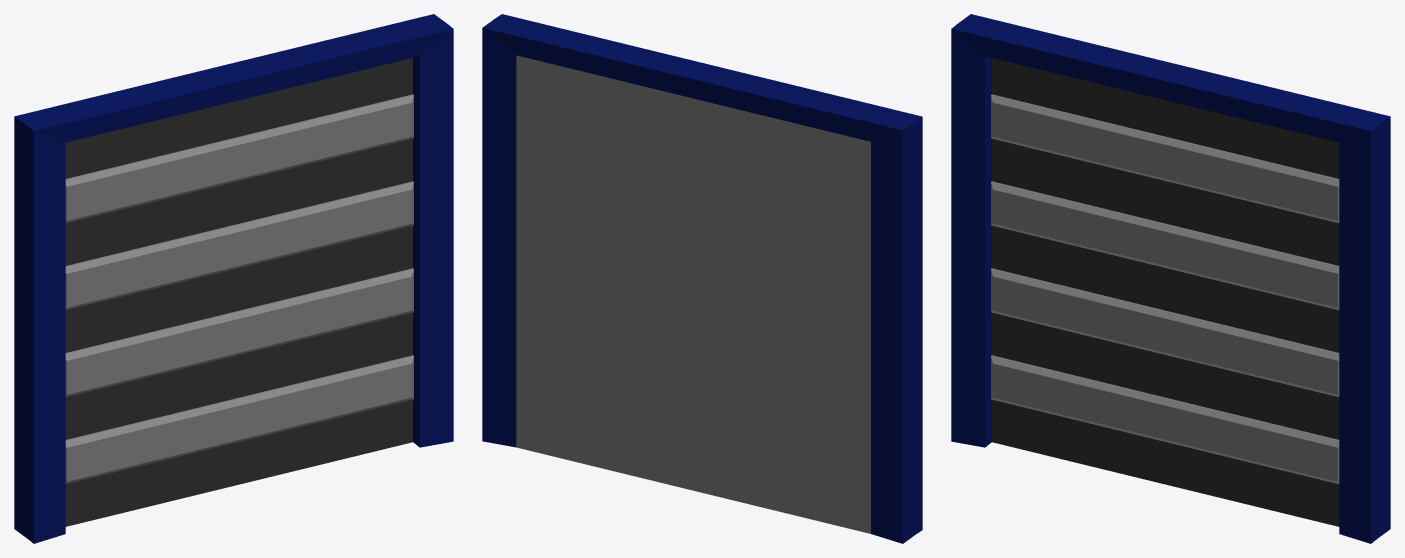
File: WarehouseShutter.fbx
3 renders of one model, left to right at view 1: azimuth 30°, elevation 25°; view 2: azimuth 150°, elevation 25°; view 3: azimuth 330°, elevation 25°, orthographic.
Parts seen in each view (by area): view 1: GarageDoor; view 2: GarageDoor; view 3: GarageDoor.
Part boxes in pixels (bbox=[...]): GarageDoor: bbox=[14, 14, 453, 543]; GarageDoor: bbox=[482, 14, 922, 543]; GarageDoor: bbox=[951, 14, 1390, 543].
Bounding box in the file's own units: 874 × 823 × 70.59.
